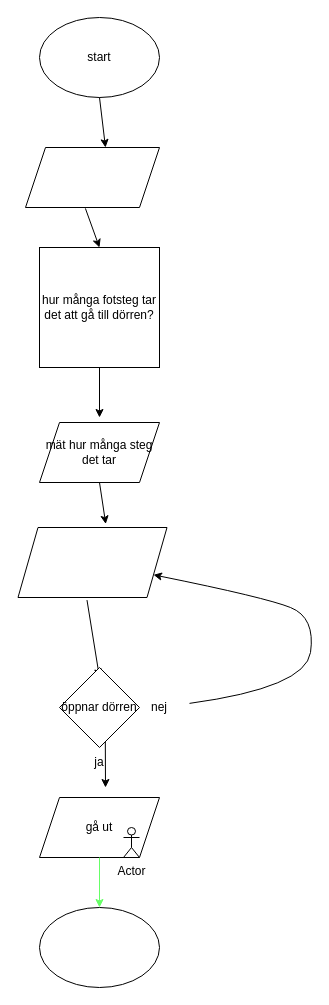
Image size: 329x1005. Some labels were removed from this diagram. Each missing label, with the box of its shape:
hur tar jag mig till dörren?: (24, 146, 160, 208)
slut: (38, 906, 160, 988)
ta handen på dörrhandtaget: (17, 526, 167, 598)
